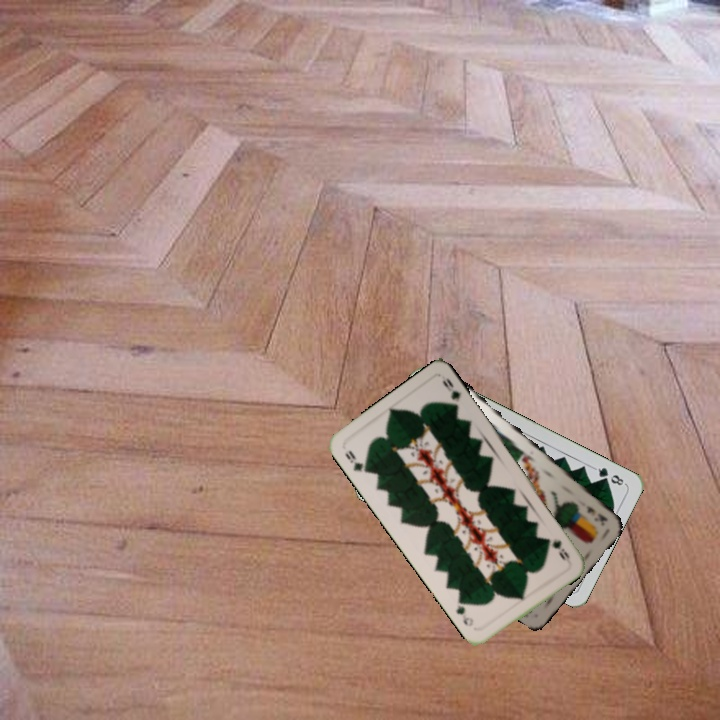EK: (582, 501, 610, 527)
G8: (590, 463, 628, 488)
G9: (341, 447, 372, 476), (549, 536, 572, 562)
